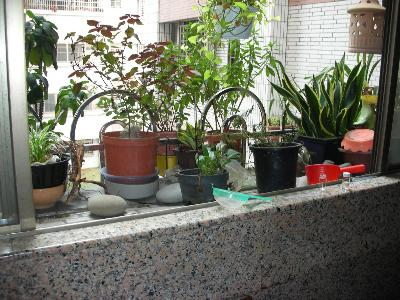bottle: (340, 172, 354, 192), (316, 172, 329, 193)
bowl: (30, 184, 67, 213), (211, 185, 249, 212), (306, 162, 341, 186)
plate: (97, 165, 162, 200), (341, 128, 377, 153)
